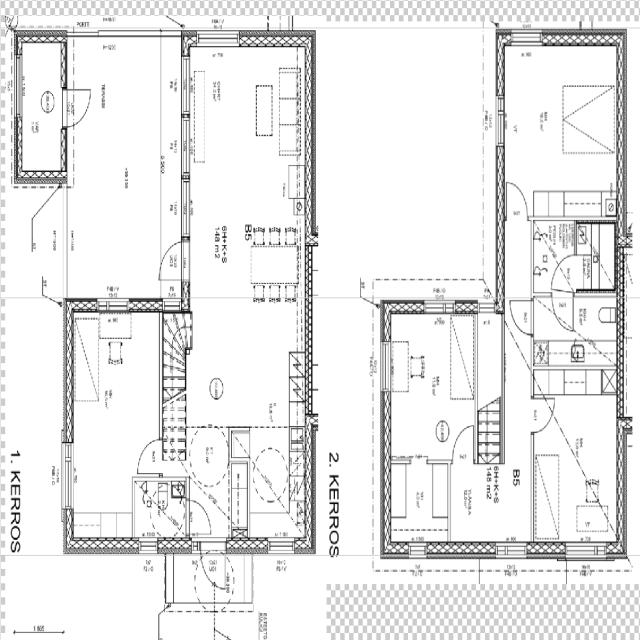door: (155, 237, 191, 285), (61, 84, 94, 129), (529, 379, 555, 436), (548, 249, 576, 296), (201, 543, 228, 589), (502, 177, 530, 221), (508, 294, 535, 338), (135, 435, 163, 477), (450, 421, 477, 464), (186, 496, 212, 534), (475, 284, 497, 322)
window: (175, 52, 198, 190), (177, 130, 196, 240), (59, 436, 80, 515), (95, 21, 172, 40), (560, 540, 612, 567), (502, 24, 548, 53), (375, 333, 394, 397), (194, 26, 242, 51), (528, 434, 539, 536), (11, 51, 24, 122), (490, 539, 530, 562), (94, 294, 132, 318), (493, 95, 509, 151), (420, 295, 458, 317), (264, 535, 299, 557), (405, 540, 431, 562), (135, 537, 161, 557)
zone: (186, 46, 307, 423), (65, 27, 178, 307), (499, 38, 622, 222), (67, 305, 159, 542), (531, 367, 622, 556), (386, 304, 476, 464), (530, 289, 622, 370), (16, 36, 65, 186), (239, 427, 299, 540), (448, 461, 522, 552), (384, 460, 451, 556), (530, 220, 596, 294), (133, 475, 190, 545), (578, 222, 618, 289), (477, 407, 501, 466)
